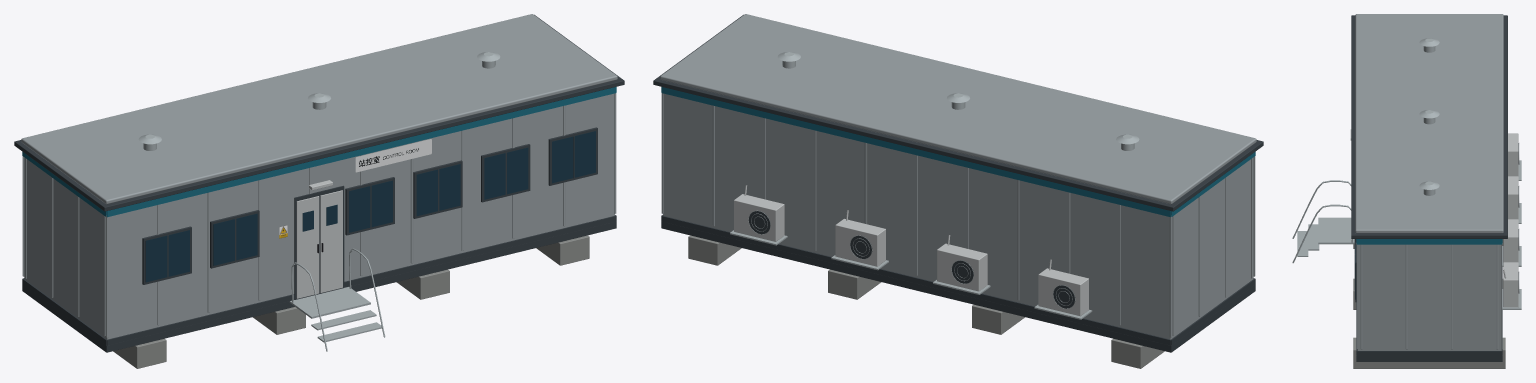
File: control-room.glb
3 views of the same model, side by side, from view 1: azimuth 30°, elevation 25°; view 2: azimuth 150°, elevation 25°; view 3: azimuth 270°, elevation 25° (orthographic). The views are drawn at different scales.
Visible parts, largest first — view 1: 站控室本体; view 2: 站控室本体; view 3: 站控室本体.
Boxes of the visible parts, x1=… form: 站控室本体: x1=14, y1=14, x2=624, y2=368; 站控室本体: x1=653, y1=14, x2=1263, y2=368; 站控室本体: x1=1292, y1=14, x2=1521, y2=368.
Size of the model in its own units: 12.3 by 4.21 by 5.41.
Materials: 7 (2 with a texture image).
